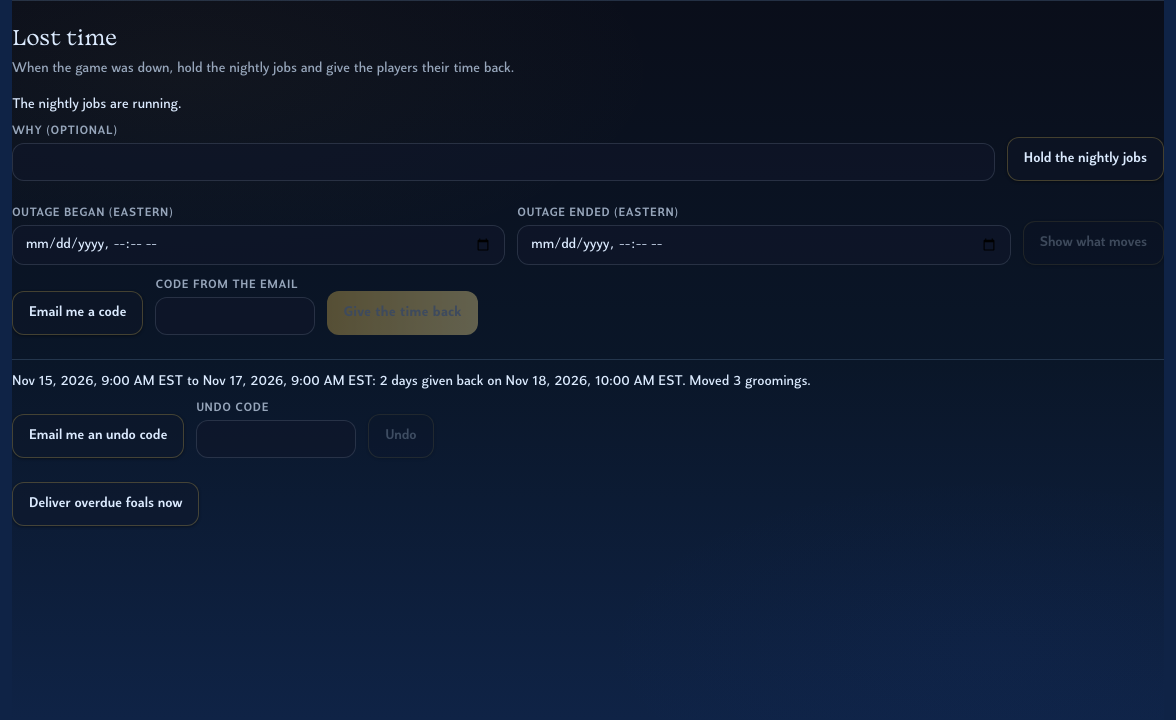
Scenario: StaffOutage › undoes a time-back with its own emailed code; the entry then says it was undone
Expected: the button "Undo" is disabled, [368, 414, 434, 458]
Click the button "Email me an undo code" at (98, 436), box [12, 414, 184, 458]
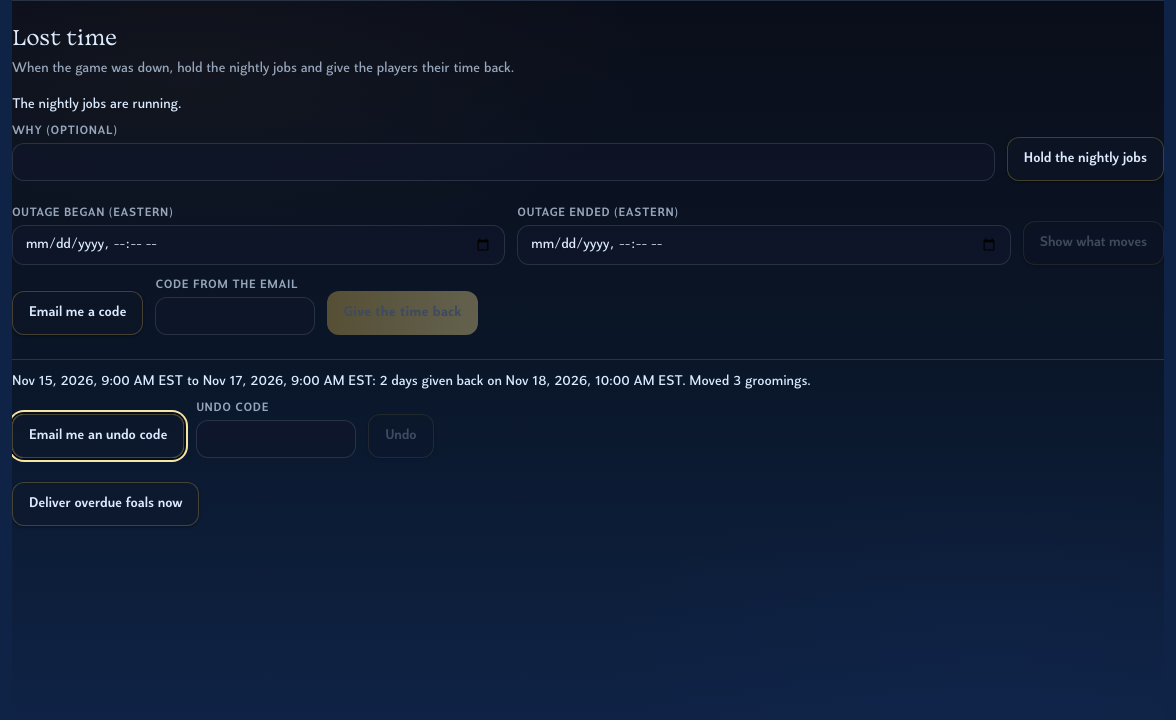
Type "654321" into the field labelled "Undo code" at (276, 439), box [196, 420, 356, 458]
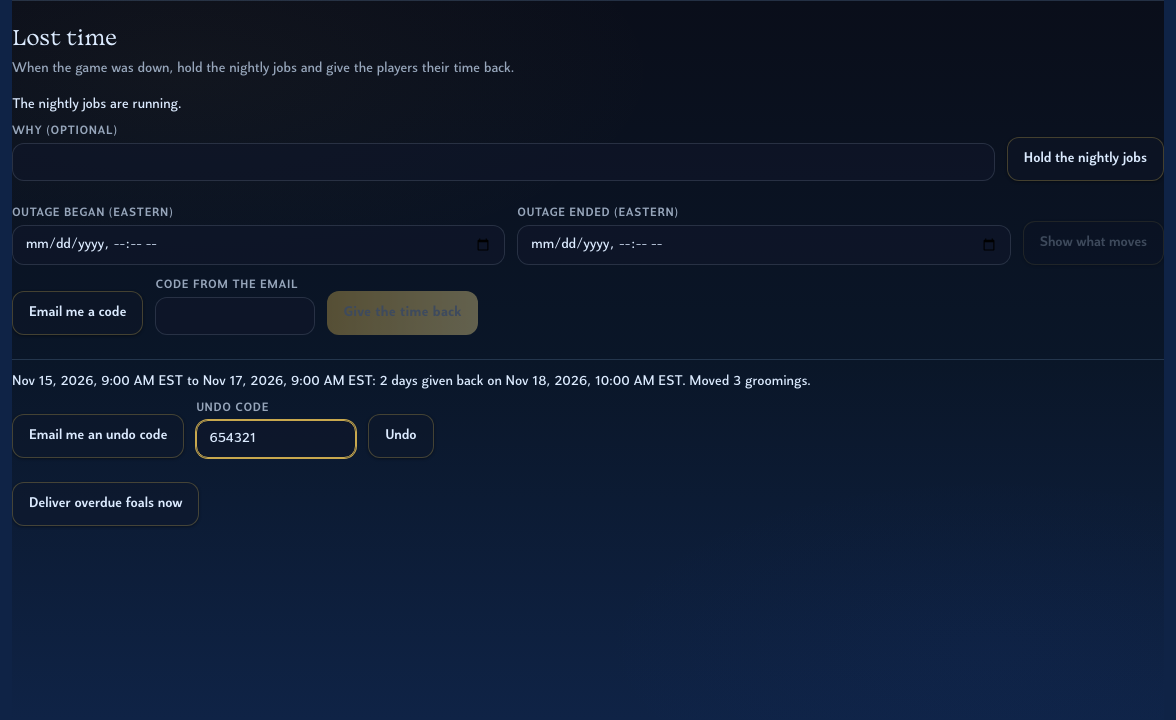
Click the button "Undo" at (401, 436), box [368, 414, 434, 458]
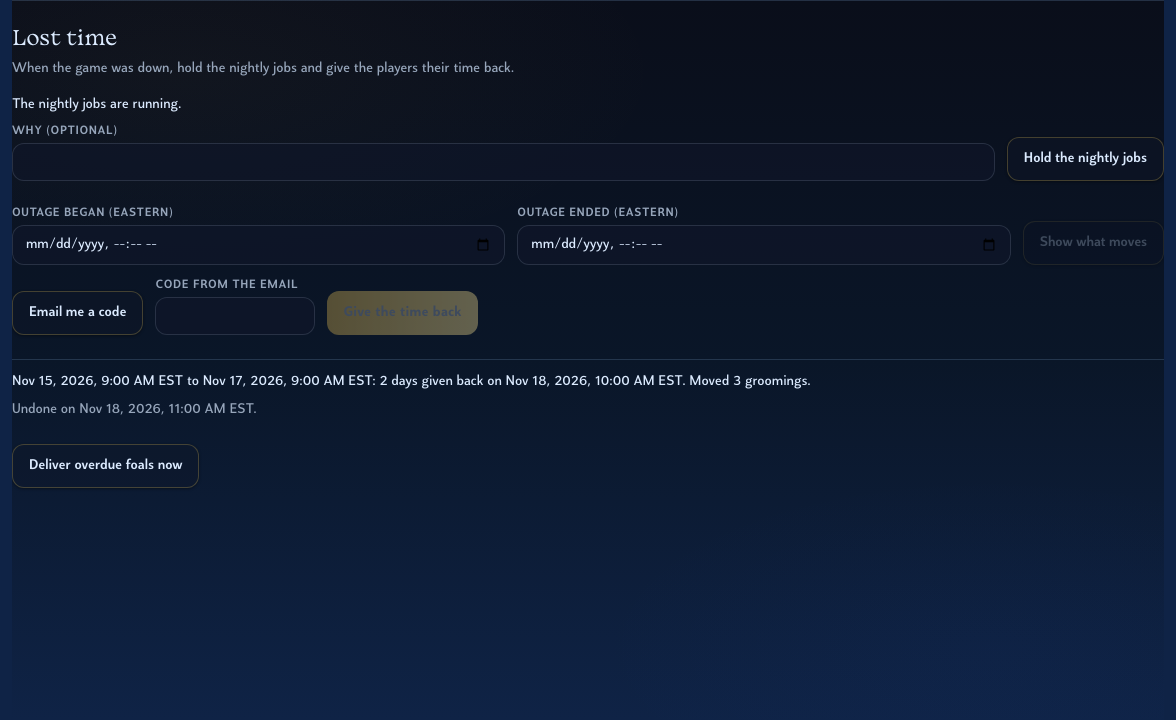
Expected: the text "Undone on Nov 18, 2026, 11:00 AM EST." is shown, [12, 402, 257, 417]
